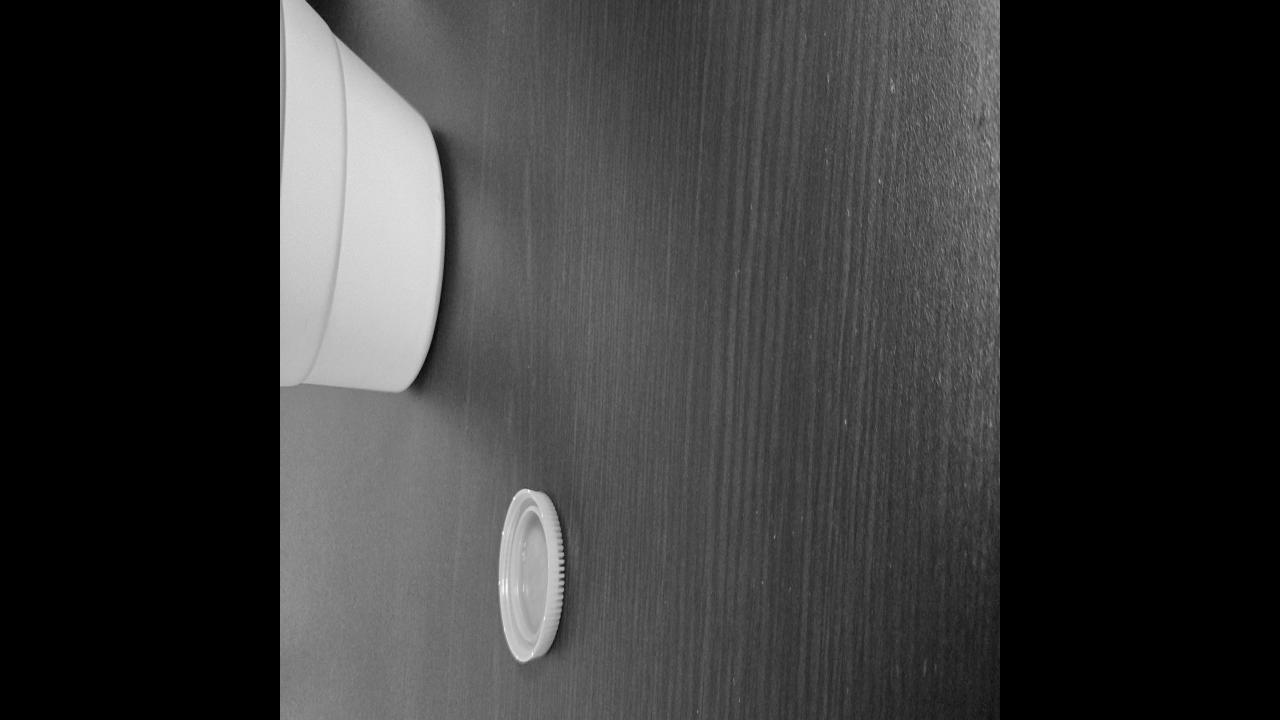bottle_cap: (493, 482, 564, 666)
